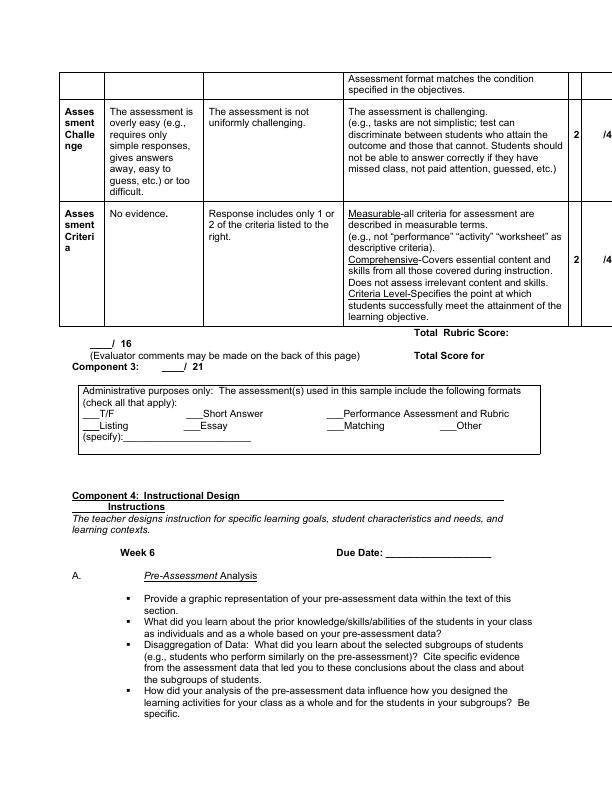input: (386, 547, 496, 562), (86, 335, 111, 349), (162, 360, 183, 376)
table: (50, 67, 612, 329), (73, 381, 549, 463)
text: (138, 566, 534, 724), (69, 513, 512, 542), (89, 349, 358, 365), (414, 328, 512, 362), (69, 488, 241, 502), (68, 357, 139, 374), (332, 545, 384, 561), (190, 360, 207, 373)
